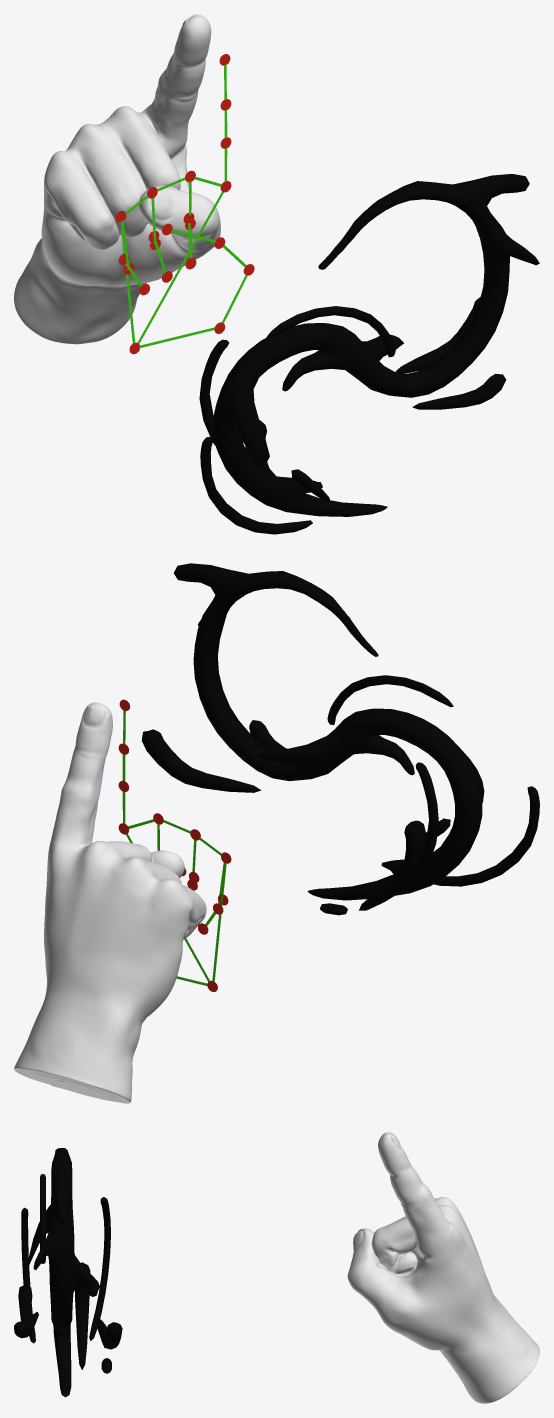
File: hand.glb
3 renders of one model, top to bottom at view 1: azimuth 30°, elevation 25°; view 2: azimuth 150°, elevation 25°; view 3: azimuth 270°, elevation 25°, orthographic. The views are drawn at different scales.
Visible parts, largest first — view 1: 15797 Pointer_v1_new, Box001, Box003, Box014, Box002, Box012, Box007; view 2: 15797 Pointer_v1_new, Box001, Box007, Box003, Box012, Box014, Box009; view 3: 15797 Pointer_v1_new, Box001, Box012, Box009, Box003, Box007, Box014, Box013, Box002.
Boxes of the visible parts, x1,y1,x2,y2 form: 15797 Pointer_v1_new: (14, 14, 220, 344); Box001: (212, 174, 539, 516); Box003: (200, 437, 312, 534); Box014: (266, 306, 395, 357); Box002: (412, 374, 506, 409); Box012: (199, 339, 229, 445); Box007: (395, 297, 480, 373); 15797 Pointer_v1_new: (14, 702, 206, 1103); Box001: (174, 563, 484, 900); Box007: (141, 729, 261, 792); Box003: (434, 786, 539, 886); Box012: (376, 762, 438, 897); Box014: (327, 675, 453, 725); Box009: (359, 820, 426, 910); 15797 Pointer_v1_new: (347, 1132, 539, 1403); Box001: (28, 1148, 99, 1397); Box012: (89, 1197, 110, 1340); Box009: (74, 1262, 90, 1369); Box003: (21, 1207, 35, 1343); Box007: (96, 1318, 122, 1349); Box014: (40, 1174, 45, 1263); Box013: (18, 1284, 32, 1323); Box002: (14, 1312, 38, 1338).
Size of the model in its own units: 31.72 by 30.36 by 51.71.
